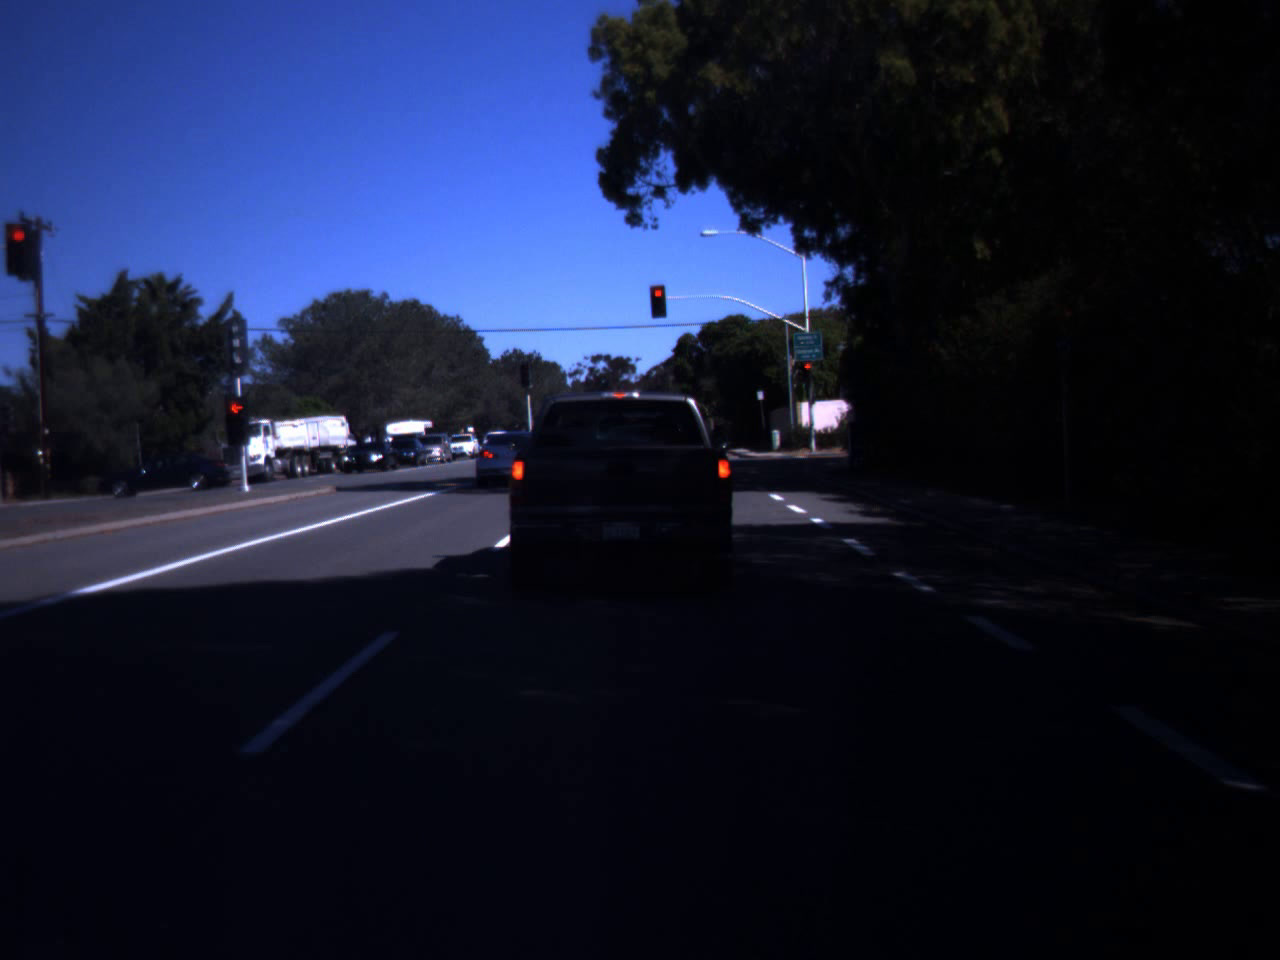stop: (4, 228, 34, 264), (222, 401, 252, 432), (651, 288, 666, 310), (802, 362, 814, 380)
